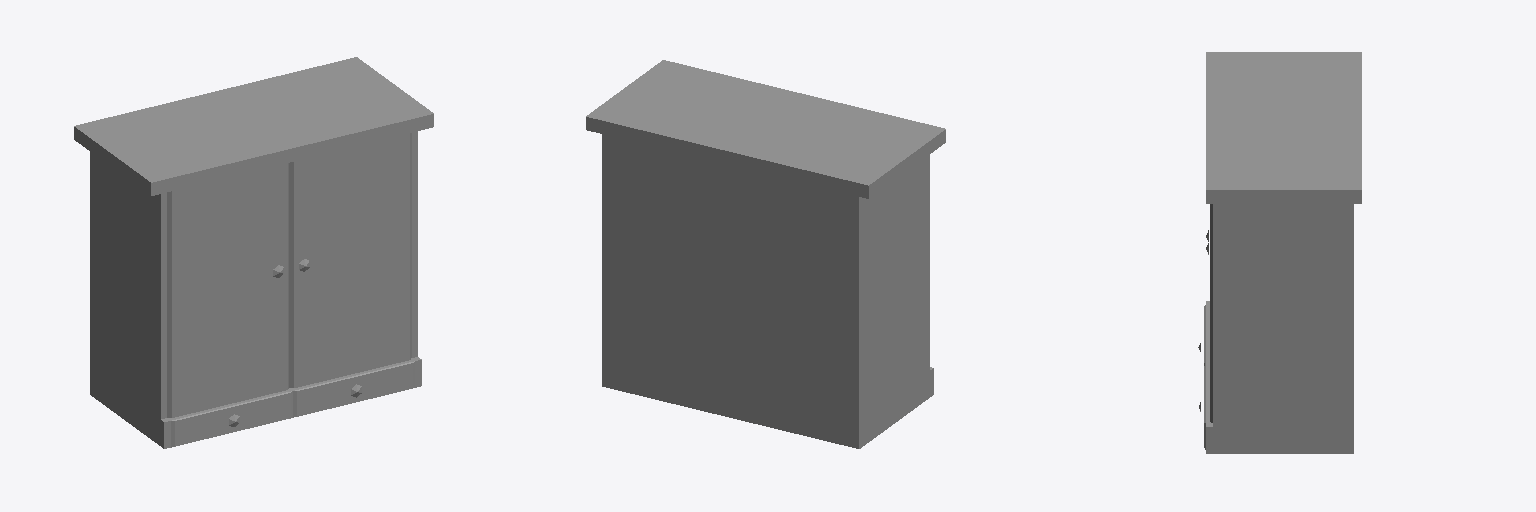
Rendered from schrank.obj.
3 views of the same model, side by side, from view 1: azimuth 30°, elevation 25°; view 2: azimuth 150°, elevation 25°; view 3: azimuth 270°, elevation 25° (orthographic).
Parts seen in each view (by area): view 1: Cube; view 2: Cube; view 3: Cube.
Part boxes in pixels (x1,y1,x2,y2): Cube: (74,57,433,448); Cube: (586,60,945,448); Cube: (1198,52,1361,453).
Size of the model in its own units: 2.2 by 2 by 1.1.